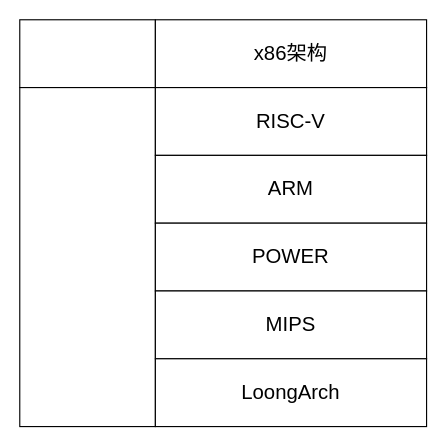
Image size: 446x446. Some labels were removed from this diagram. Each missing label, with the centre of its shape:
"CISC 复杂指令集" belongs at point (87, 53).
"RISC 精简指令集" belongs at point (87, 256).
